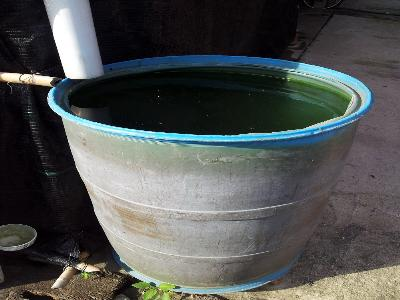bowl: (46, 56, 376, 297)
